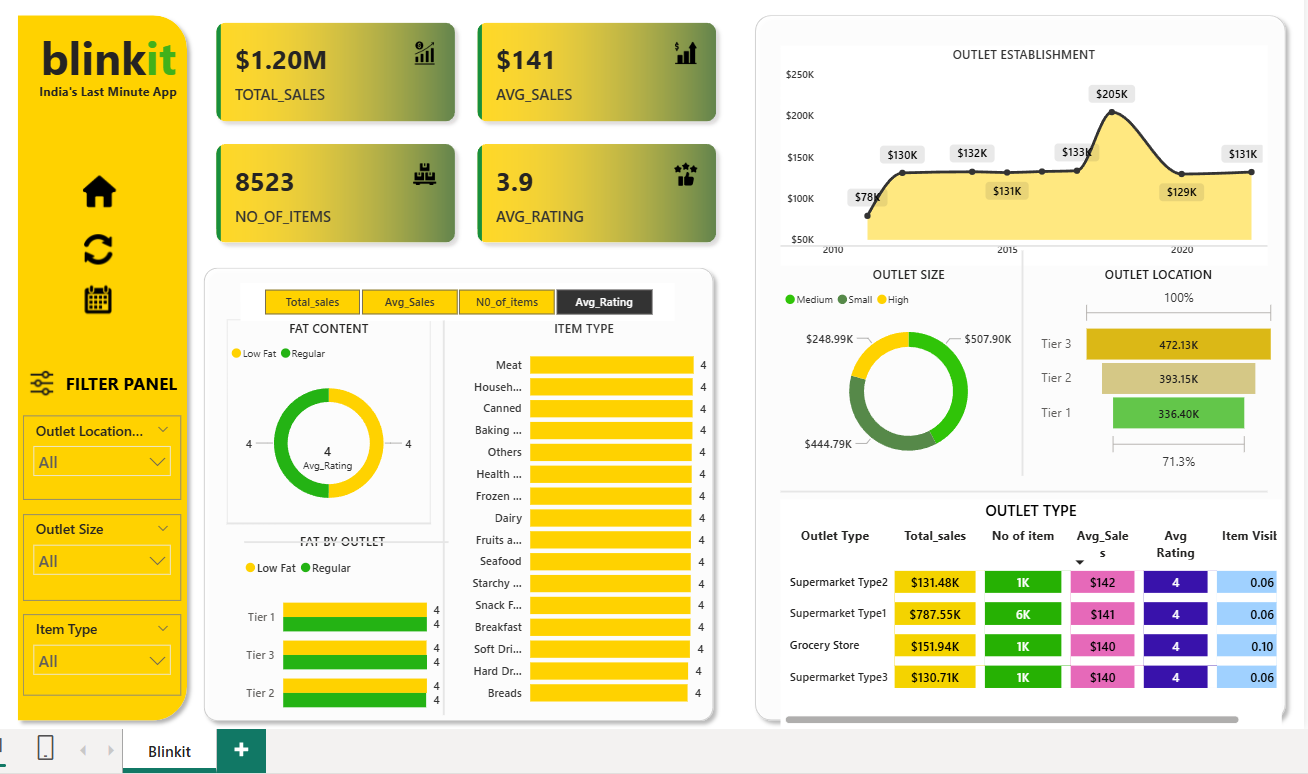

The dashboard page shown, as its layout file describes it:
{"tool":"powerbi","page":{"name":"Page 1","canvas":[1400,800],"ordinal":0},"visuals":[{"type":"shape","box":[12,25.5,199.6,774.4],"z":0},{"type":"textbox","box":[31.5,42,172.6,76.5],"z":1000},{"type":"textbox","box":[34.5,102.1,166.6,46.5],"z":2000},{"type":"cardVisual","fields":{"Data":["BlinkIT Grocery Data.Total_sales","BlinkIT Grocery Data.Avg_Sales","BlinkIT Grocery Data.N0_of_items","BlinkIT Grocery Data.Avg_Rating"]},"box":[217.6,25.5,570.3,270.2],"z":3000},{"type":"shape","box":[211.6,295.7,564.3,504.3],"z":4000},{"type":"donutChart","title":"FAT CONTENT","fields":{"Y":["BlinkIT Grocery Data.Avg_Rating"],"Category":["BlinkIT Grocery Data.Item Fat Content"]},"box":[244.6,360.2,219.1,220.6],"z":5000},{"type":"slicer","fields":{"Values":["Metrics.Metrics"]},"box":[259.6,321.2,465.3,40.5],"z":6000},{"type":"cardVisual","fields":{"Data":["BlinkIT Grocery Data.Avg_Rating"]},"box":[282.2,475.8,144.1,64.5],"z":7000},{"type":"clusteredBarChart","title":"FAT BY OUTLET","fields":{"Y":["BlinkIT Grocery Data.Avg_Rating"],"Category":["BlinkIT Grocery Data.Outlet Location Type"],"Series":["BlinkIT Grocery Data.Item Fat Content"]},"box":[259.6,589.8,219.1,210.1],"z":8000},{"type":"shape","box":[244.6,570.3,219.1,19.5],"z":9000},{"type":"shape","box":[463.8,361.7,28.5,423.2],"z":10000},{"type":"barChart","title":" ITEM TYPE","fields":{"Y":["BlinkIT Grocery Data.Avg_Rating"],"Category":["BlinkIT Grocery Data.Item Type"]},"box":[492.3,360.2,273.2,424.7],"z":11000},{"type":"shape","box":[803,25.5,586.8,774.4],"z":12000},{"type":"lineChart","title":"OUTLET ESTABLISHMENT","fields":{"Category":["BlinkIT Grocery Data.Outlet Establishment Year"],"Y":["BlinkIT Grocery Data.Total_sales"]},"box":[839,67.5,522.3,235.6],"z":13000},{"type":"shape","box":[839,277.7,522.3,9],"z":14000},{"type":"shape","box":[264.6,590.3,219.1,19.5],"z":15000},{"type":"donutChart","title":"OUTLET SIZE","fields":{"Y":["BlinkIT Grocery Data.Total_sales"],"Category":["BlinkIT Grocery Data.Outlet Size"]},"box":[839,303.2,275,225],"z":16000},{"type":"shape","box":[1091.1,286.7,15,241.6],"z":17000},{"type":"funnel","title":"OUTLET LOCATION","fields":{"Category":["BlinkIT Grocery Data.Outlet Location Type"],"Y":["Sum(BlinkIT Grocery Data.Sales)"]},"box":[1113.6,303.2,261.2,225.1],"z":18000},{"type":"shape","box":[839,528.3,522.3,34.5],"z":19000},{"type":"pivotTable","title":"OUTLET TYPE","fields":{"Rows":["BlinkIT Grocery Data.Outlet Type"],"Values":["BlinkIT Grocery Data.Total_sales","BlinkIT Grocery Data.NO_of_items","BlinkIT Grocery Data.Avg_Sales","BlinkIT Grocery Data.Avg_Rating","Avg(BlinkIT Grocery Data.Item Visibility)"]},"box":[839,553.8,537.3,246.1],"z":20000},{"type":"slicer","fields":{"Values":["BlinkIT Grocery Data.Outlet Location Type"]},"box":[27,463.8,169.6,90.1],"z":21000},{"type":"slicer","fields":{"Values":["BlinkIT Grocery Data.Outlet Size"]},"box":[27,570.3,169.6,93.1],"z":22000},{"type":"slicer","fields":{"Values":["BlinkIT Grocery Data.Item Type"]},"box":[27,676.9,169.6,87.1],"z":23000},{"type":"actionButton","box":[24,186.1,160.6,73.5],"z":24000},{"type":"actionButton","box":[54,265.7,100.6,40.5],"z":25000},{"type":"actionButton","box":[54,306.2,100.6,67.5],"z":26000},{"type":"actionButton","box":[27,408.2,169.6,40.5],"z":27000}]}

Visuals, with their boxes on the page's 1400x800 design canvas (x1, y1, x2, y2). These are canvas units, not pixel positions in the 1308x774 screenshot, which may show the page scaled, cropped or inside an application window:
shape: BBox(12, 26, 212, 800)
textbox: BBox(32, 42, 204, 118)
textbox: BBox(34, 102, 201, 149)
cardVisual - BlinkIT Grocery Data.Total_sales x BlinkIT Grocery Data.Avg_Sales: BBox(218, 26, 788, 296)
shape: BBox(212, 296, 776, 800)
"FAT CONTENT" donutChart: BBox(245, 360, 464, 581)
slicer - Metrics.Metrics: BBox(260, 321, 725, 362)
cardVisual - BlinkIT Grocery Data.Avg_Rating: BBox(282, 476, 426, 540)
"FAT BY OUTLET" clusteredBarChart: BBox(260, 590, 479, 800)
shape: BBox(245, 570, 464, 590)
shape: BBox(464, 362, 492, 785)
" ITEM TYPE" barChart: BBox(492, 360, 766, 785)
shape: BBox(803, 26, 1390, 800)
"OUTLET ESTABLISHMENT" lineChart: BBox(839, 68, 1361, 303)
shape: BBox(839, 278, 1361, 287)
shape: BBox(265, 590, 484, 610)
"OUTLET SIZE" donutChart: BBox(839, 303, 1114, 528)
shape: BBox(1091, 287, 1106, 528)
"OUTLET LOCATION" funnel: BBox(1114, 303, 1375, 528)
shape: BBox(839, 528, 1361, 563)
"OUTLET TYPE" pivotTable: BBox(839, 554, 1376, 800)
slicer - BlinkIT Grocery Data.Outlet Location Type: BBox(27, 464, 197, 554)
slicer - BlinkIT Grocery Data.Outlet Size: BBox(27, 570, 197, 663)
slicer - BlinkIT Grocery Data.Item Type: BBox(27, 677, 197, 764)
actionButton: BBox(24, 186, 185, 260)
actionButton: BBox(54, 266, 155, 306)
actionButton: BBox(54, 306, 155, 374)
actionButton: BBox(27, 408, 197, 449)
